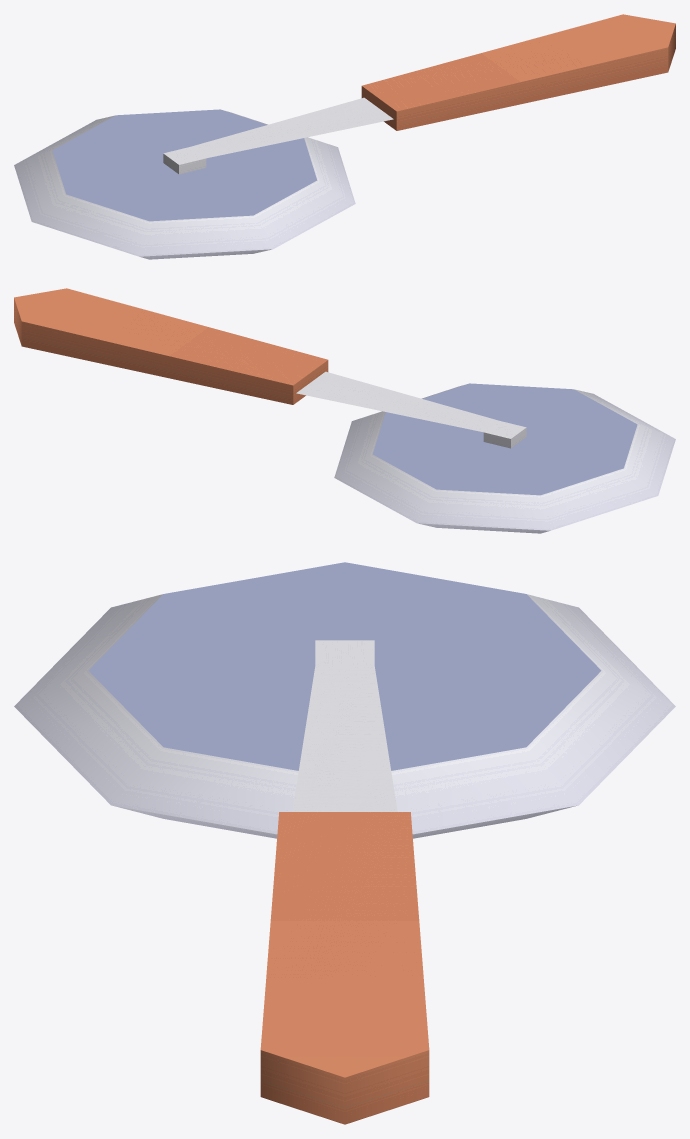
Rendered from pizza-cutter.glb.
The picture shows the model from 3 angles, top to bottom: view 1: azimuth 30°, elevation 25°; view 2: azimuth 150°, elevation 25°; view 3: azimuth 270°, elevation 25°; orthographic projection. The views are drawn at different scales.
Visible parts, largest first — view 1: pizza-cutter; view 2: pizza-cutter; view 3: pizza-cutter.
Boxes of the visible parts, x1,y1,x2,y2 form: pizza-cutter: (14,14,675,259); pizza-cutter: (14,288,675,533); pizza-cutter: (14,562,675,1124).
Size of the model in its own units: 0.536 by 0.0556 by 0.2549.
Materials: 1 (1 with a texture image).
